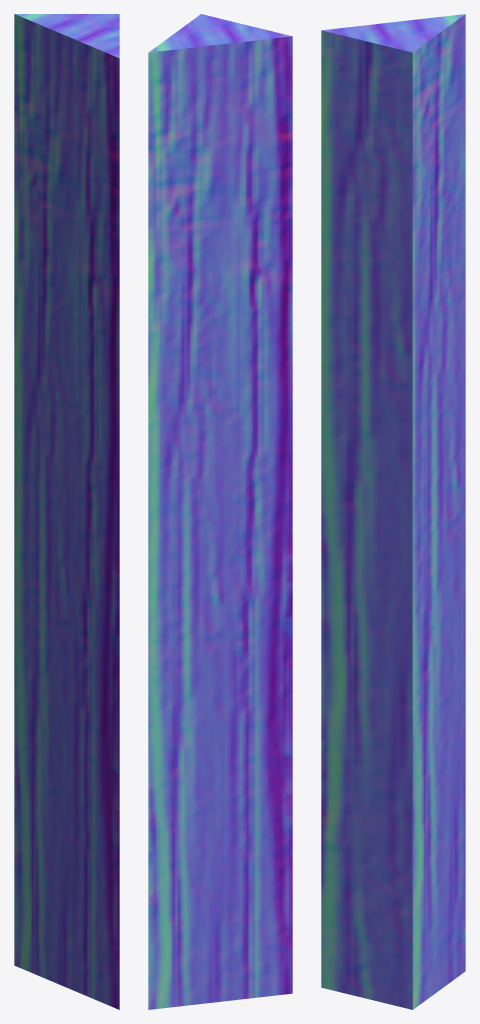
Rendered from HsWallCorMidB01.fbx.
3 views of the same model, side by side, from view 1: azimuth 90°, elevation 25°; view 2: azimuth 150°, elevation 25°; view 3: azimuth 330°, elevation 25° (orthographic).
Visible parts, largest first — view 1: HsWallCorMidB01; view 2: HsWallCorMidB01; view 3: HsWallCorMidB01.
Part boxes in pixels (<box>): HsWallCorMidB01: <box>14,14,119,1009</box>; HsWallCorMidB01: <box>148,14,292,1009</box>; HsWallCorMidB01: <box>321,14,465,1009</box>.
Bounding box in the file's own units: 10 × 100 × 10.
